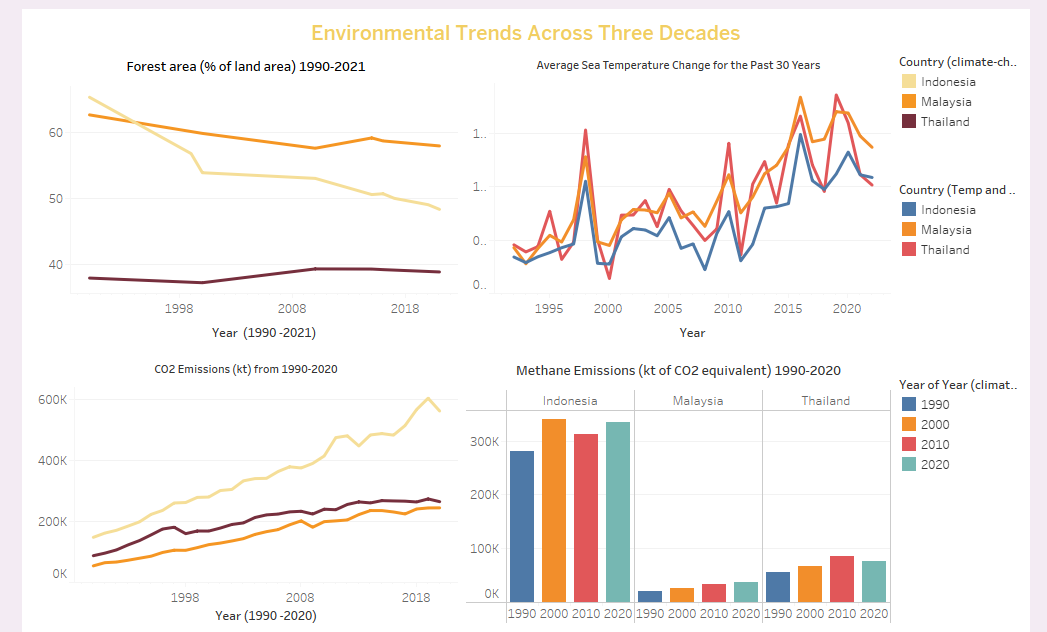

The dashboard page shown, as its layout file describes it:
{"tool":"tableau","page":{"name":"Dashboard 2","canvas":[1000,1000],"units":"permille","ordinal":1},"visuals":[{"type":"title","box":[6.7,14.7,986.6,58.8]},{"type":"worksheet","title":"Forest area (% of land area)","mark":"Automatic","rows":["Value"],"cols":["Year (climate-chang three countries E)"],"box":[6.7,73.5,440.1,477.9]},{"type":"worksheet","title":"Average Sea Temperature Change","mark":"Automatic","rows":["Change STemp"],"cols":["Year (Temp and sea level Extract)"],"box":[446.8,73.5,440.2,477.9]},{"type":"legend","title":"CO2 Emissions (kt) of 3 countries 1990-2020","param":"[federated.0caafp70hg8x5p1di2bq116lluuw].[none:Country (climate-chang three coun","box":[887,73.5,106.3,235.3]},{"type":"legend","title":"Average Sea Temperature Change","param":"[federated.0caafp70hg8x5p1di2bq116lluuw].[none:Country (Temp and sea level Extra","box":[887,308.8,106.3,158.1]},{"type":"worksheet","title":"CO2 Emissions (kt) of 3 countries 1990-2020","mark":"Automatic","rows":["Value"],"cols":["Year (climate-chang three countries E)"],"box":[6.7,551.5,440.1,433.8]},{"type":"worksheet","title":"Methane emissions (kt of CO2 equivalent)","mark":"Bar","rows":["Value"],"cols":["Country (climate-chang three countries E)","Year (climate-chang three countries E)"],"box":[446.8,551.5,440.2,433.8]},{"type":"legend","title":"Methane emissions (kt of CO2 equivalent)","param":"[federated.0caafp70hg8x5p1di2bq116lluuw].[yr:Year (climate-chang three countries","box":[887,582.9,106.3,194.9]}]}

Visuals, with their boxes on the dashboard's canvas, which has no fixed pixel size, in thousandths of its width and height (x1, y1, x2, y2). These are canvas units, not pixel positions in the 1047x632 screenshot, which may show the page scaled, cropped or inside an application window:
title: (x1=7, y1=15, x2=993, y2=74)
"Forest area (% of land area)" worksheet: (x1=7, y1=74, x2=447, y2=551)
"Average Sea Temperature Change" worksheet: (x1=447, y1=74, x2=887, y2=551)
"CO2 Emissions (kt) of 3 countries 1990-2020" legend: (x1=887, y1=74, x2=993, y2=309)
"Average Sea Temperature Change" legend: (x1=887, y1=309, x2=993, y2=467)
"CO2 Emissions (kt) of 3 countries 1990-2020" worksheet: (x1=7, y1=552, x2=447, y2=985)
"Methane emissions (kt of CO2 equivalent)" worksheet (Bar marks): (x1=447, y1=552, x2=887, y2=985)
"Methane emissions (kt of CO2 equivalent)" legend: (x1=887, y1=583, x2=993, y2=778)
